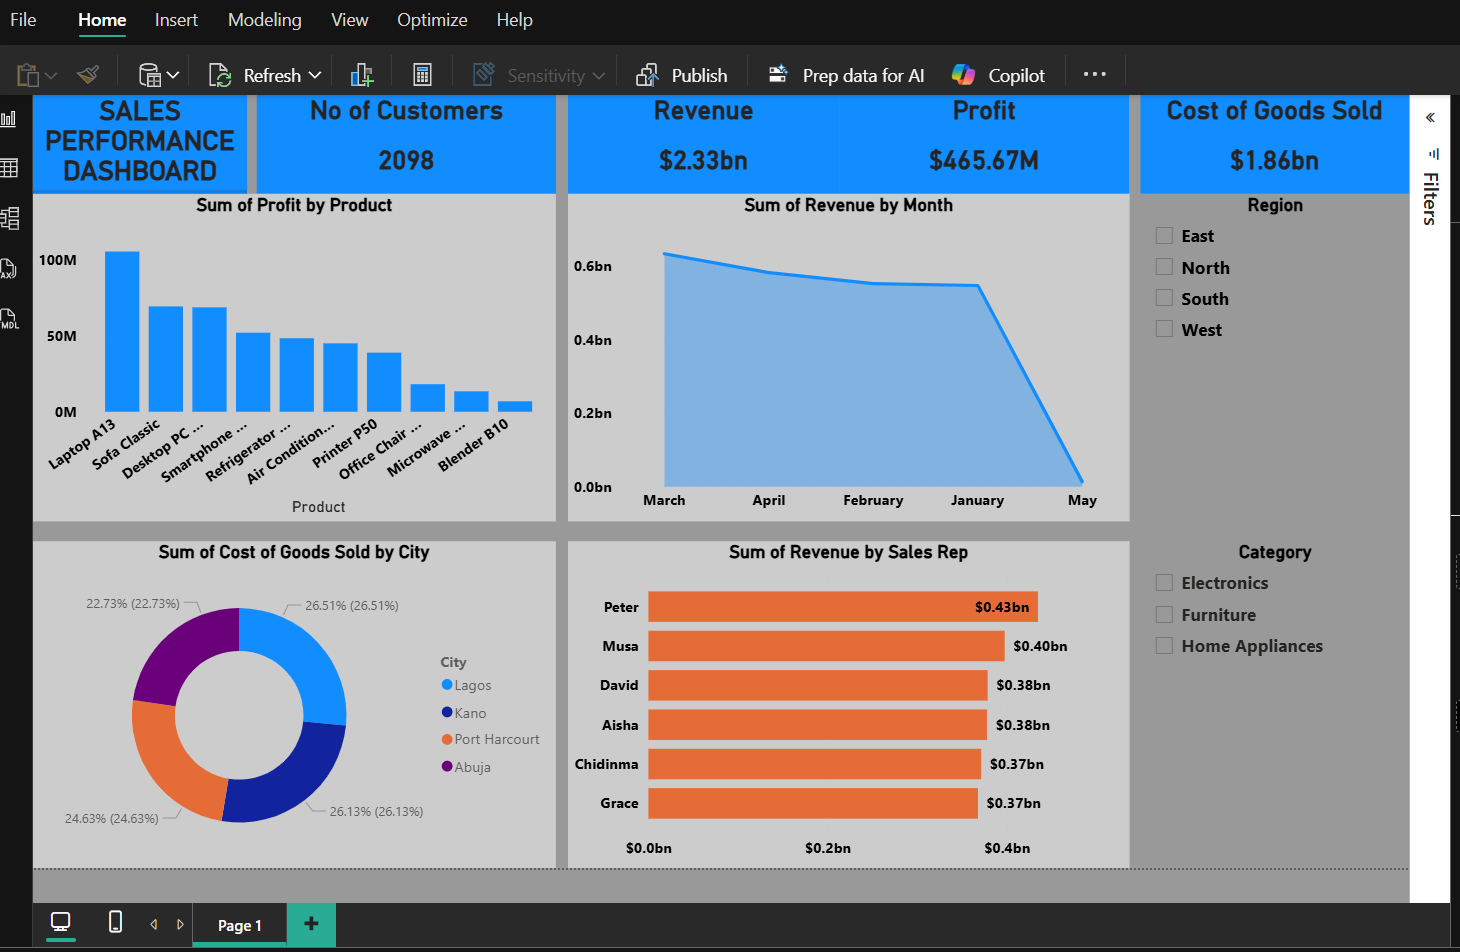

The dashboard page shown, as its layout file describes it:
{"tool":"powerbi","page":{"name":"Page 1","canvas":[1280,720],"ordinal":0},"visuals":[{"type":"shape","title":"SALES PERFORMANCE DASHBOARD","box":[0,0,199,92.1],"z":0},{"type":"textbox","box":[0,180.5,224,150],"z":1000},{"type":"card","title":"No of Customers","fields":{"Values":["CountNonNull(Sales Data.Customer Type)"]},"box":[207.7,0,278.6,92.1],"z":2000},{"type":"card","title":"Revenue","fields":{"Values":["Sum(Sales Data.Revenue)"]},"box":[497.6,0,252.5,92.1],"z":3000},{"type":"card","title":"Cost of Goods Sold","fields":{"Values":["Sum(Sales Data.Cost of Goods Sold)"]},"box":[1030,0,250,92.1],"z":4000},{"type":"card","title":"Profit","fields":{"Values":["Sum(Sales Data.Profit)"]},"box":[750.1,0,269.9,92.1],"z":5000},{"type":"clusteredColumnChart","fields":{"Category":["Sales Data.Product"],"Y":["Sum(Sales Data.Profit)"]},"box":[0,92.1,486.4,304.8],"z":6000},{"type":"clusteredBarChart","fields":{"Y":["Sum(Sales Data.Revenue)"],"Category":["Sales Data.Sales Rep"]},"box":[497.6,415.5,522.5,304.8],"z":7000},{"type":"lineChart","fields":{"Category":["Sales Data.Month"],"Y":["Sum(Sales Data.Revenue)"]},"box":[497.6,92.1,522.5,304.8],"z":8000},{"type":"slicer","title":"Region","fields":{"Values":["Sales Data.Region"]},"box":[1031,92,249,305],"z":9000},{"type":"slicer","title":"Category","fields":{"Values":["Sales Data.Category"]},"box":[1031.2,415.5,248.8,304.8],"z":10000},{"type":"donutChart","title":" Sum of Cost of Goods Sold by City","fields":{"Category":["Sales Data.City"],"Y":["Divide(Sum(Sales Data.Cost of Goods Sold), ScopedEval(Sum(Sales Data.Cost of Goods Sold), []))"]},"box":[0,415,486,305],"z":11000}]}

Visuals, with their boxes in screenshot pixels (x1, y1, x2, y2):
"SALES PERFORMANCE DASHBOARD" shape: region(8, 87, 231, 191)
textbox: region(8, 290, 260, 459)
"No of Customers" card: region(241, 87, 555, 191)
"Revenue" card: region(567, 87, 851, 191)
"Cost of Goods Sold" card: region(1166, 87, 1447, 191)
"Profit" card: region(851, 87, 1155, 191)
clusteredColumnChart - Sales Data.Product x Sum(Sales Data.Profit): region(8, 191, 555, 534)
clusteredBarChart - Sum(Sales Data.Revenue) x Sales Data.Sales Rep: region(567, 555, 1155, 898)
lineChart - Sales Data.Month x Sum(Sales Data.Revenue): region(567, 191, 1155, 534)
"Region" slicer: region(1167, 191, 1447, 534)
"Category" slicer: region(1168, 555, 1447, 898)
" Sum of Cost of Goods Sold by City" donutChart: region(8, 554, 554, 897)
